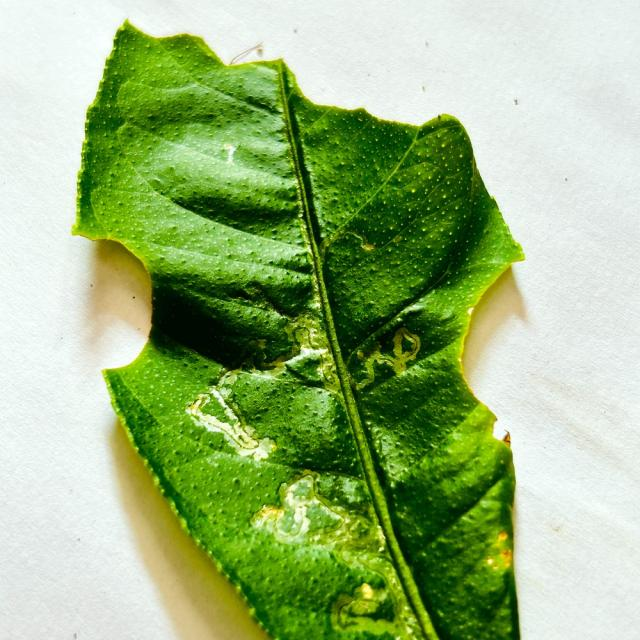Deficiency Leaf: (126, 0, 458, 124), (76, 240, 151, 374), (462, 266, 532, 394), (496, 420, 509, 440)
Lemon: (76, 23, 524, 639)
